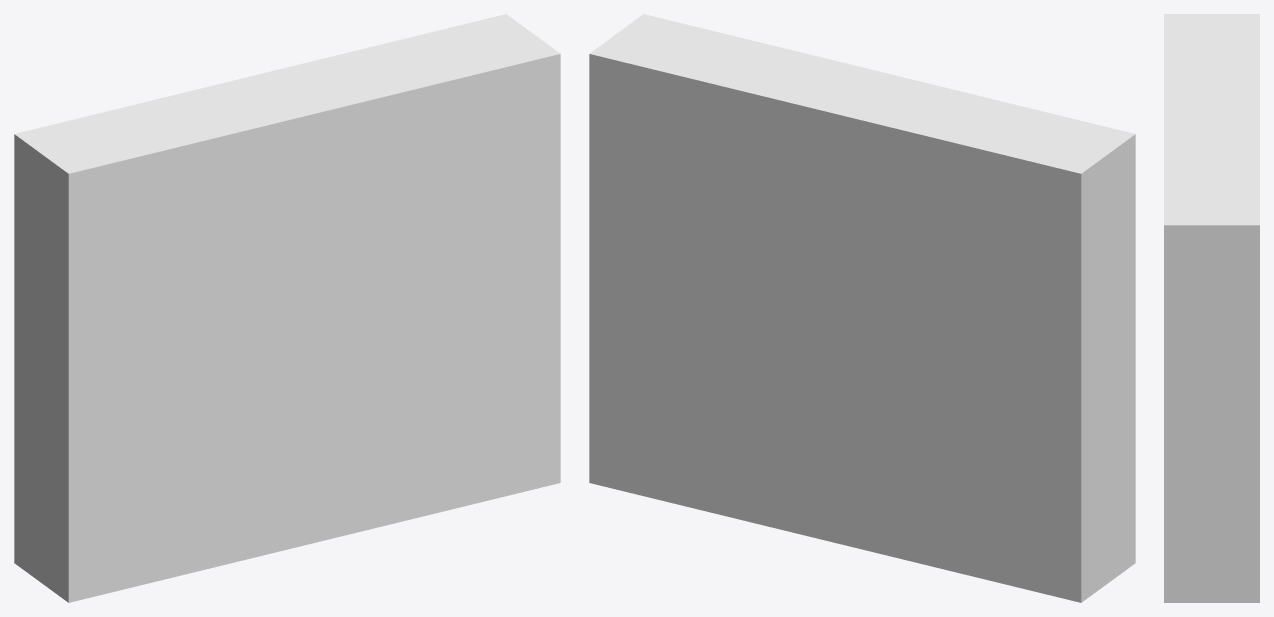
File: white-button.glb
The picture shows the model from 3 angles, left to right: view 1: azimuth 30°, elevation 25°; view 2: azimuth 150°, elevation 25°; view 3: azimuth 270°, elevation 25°; orthographic projection. The views are drawn at different scales.
Visible parts, largest first — view 1: mesh_id40; view 2: mesh_id40; view 3: mesh_id40.
Boxes of the visible parts, x1,y1,x2,y2 form: mesh_id40: [14, 14, 560, 602]; mesh_id40: [589, 14, 1135, 602]; mesh_id40: [1164, 14, 1259, 602].
Size of the model in its own units: 0.0129 by 0.0108 by 0.00248.
1 material, 1 textured.
